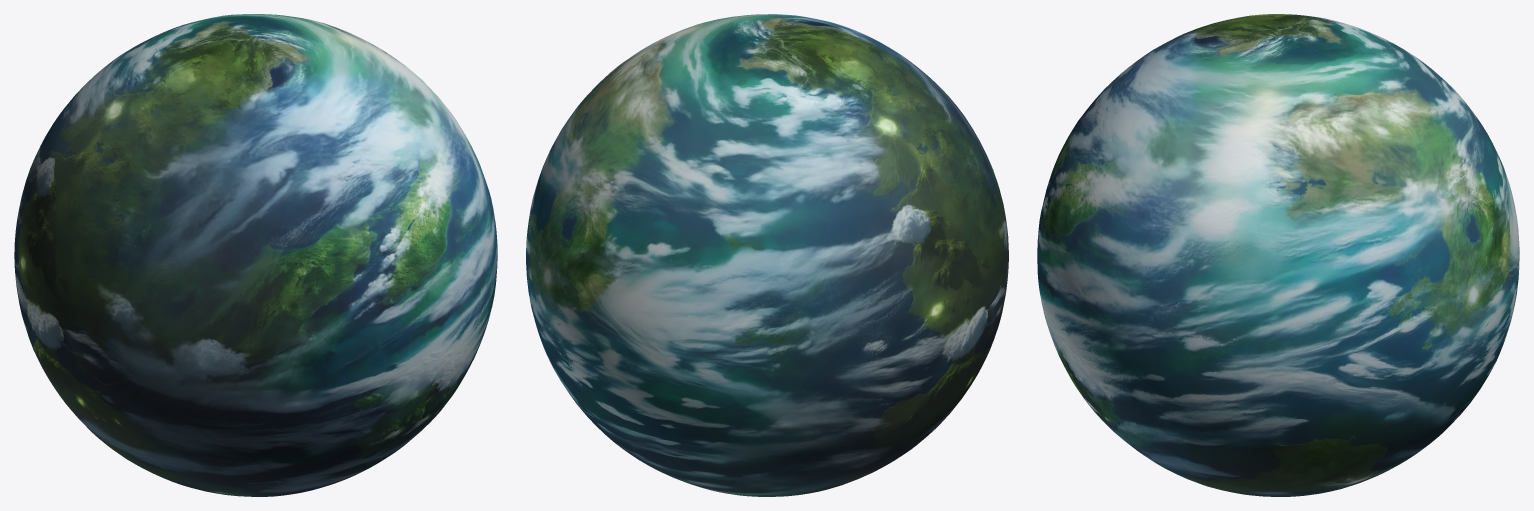
The model's file is normal_planet_3.glb.
The picture shows the model from 3 angles, left to right: view 1: azimuth 30°, elevation 25°; view 2: azimuth 150°, elevation 25°; view 3: azimuth 270°, elevation 25°; orthographic projection.
Parts seen in each view (by area): view 1: Mesh_0.040; view 2: Mesh_0.040; view 3: Mesh_0.040.
Boxes of the visible parts, x1=… form: Mesh_0.040: x1=14, y1=14, x2=497, y2=496; Mesh_0.040: x1=526, y1=14, x2=1008, y2=496; Mesh_0.040: x1=1037, y1=14, x2=1519, y2=496.
Size of the model in its own units: 2 by 2 by 2.
1 material, 1 textured.
